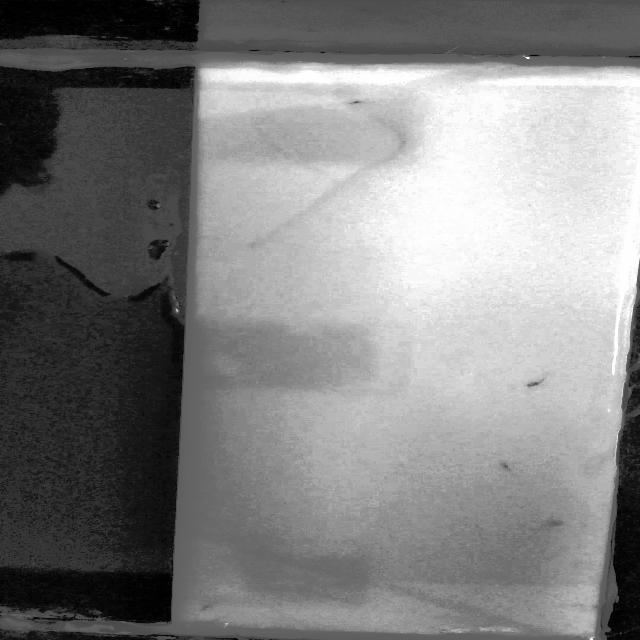shrimp: (519, 374, 557, 391), (539, 514, 569, 534), (346, 96, 371, 110), (188, 602, 218, 612), (491, 461, 515, 472)
